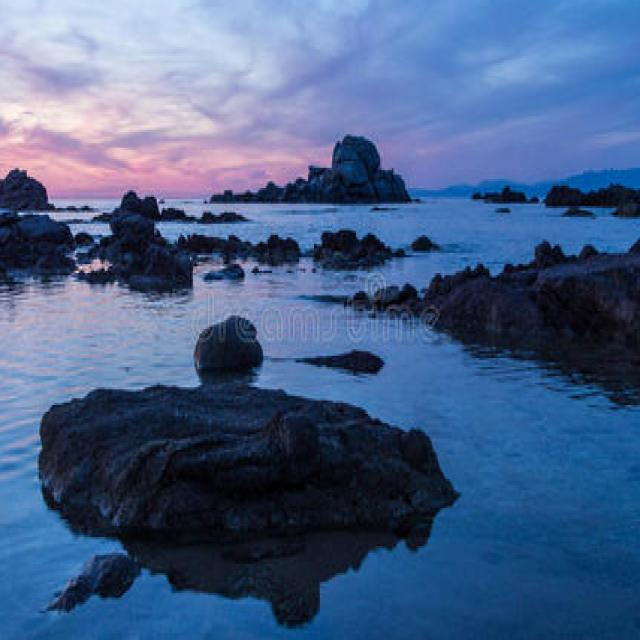reef: (97, 187, 420, 293)
